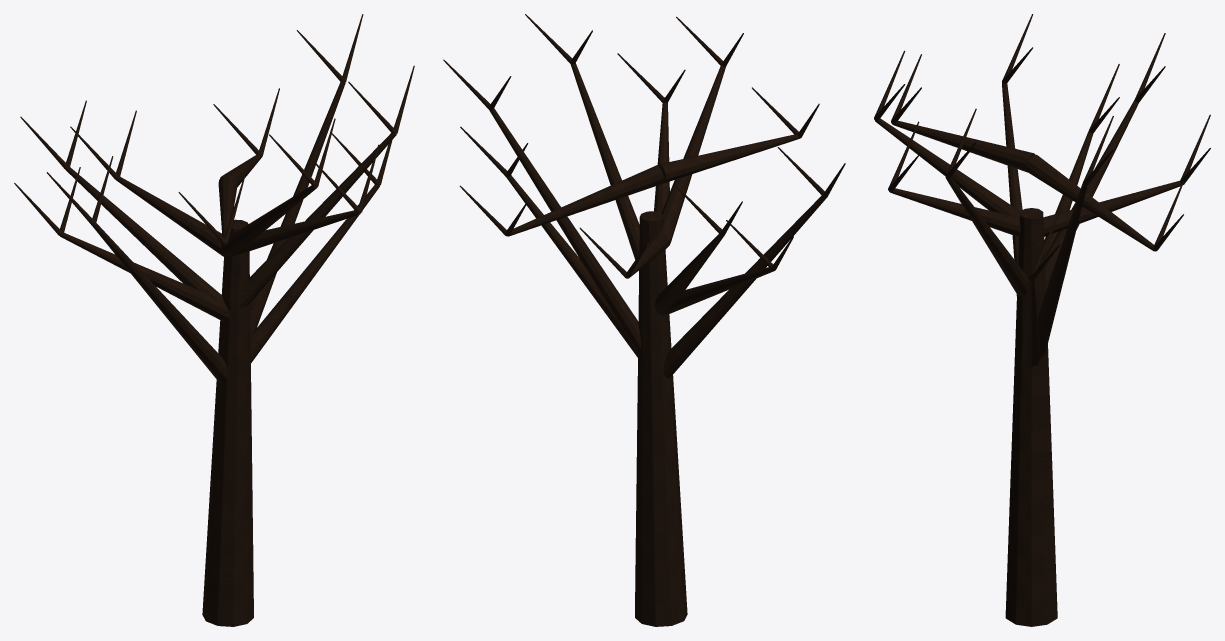
File: PROP-A8AC198588A0_lod1.glb
3 renders of one model, left to right at view 1: azimuth 30°, elevation 25°; view 2: azimuth 150°, elevation 25°; view 3: azimuth 270°, elevation 25°, orthographic. The views are drawn at different scales.
Visible parts, largest first — view 1: branch.007, trunk.019, bare_twigs.001; view 2: branch.007, trunk.019, bare_twigs.001; view 3: branch.007, trunk.019, bare_twigs.001.
Part boxes in pixels (x1,y1,x2,y2): branch.007: (60, 81, 396, 383); trunk.019: (202, 219, 253, 626); bare_twigs.001: (14, 14, 414, 244); branch.007: (489, 63, 826, 377); trunk.019: (635, 211, 687, 626); bare_twigs.001: (443, 14, 845, 278); branch.007: (875, 82, 1181, 366); trunk.019: (1005, 208, 1057, 626); bare_twigs.001: (874, 14, 1210, 281).
Size of the model in its own units: 3.87 by 5.4 by 2.97.
1 material, 1 textured.
